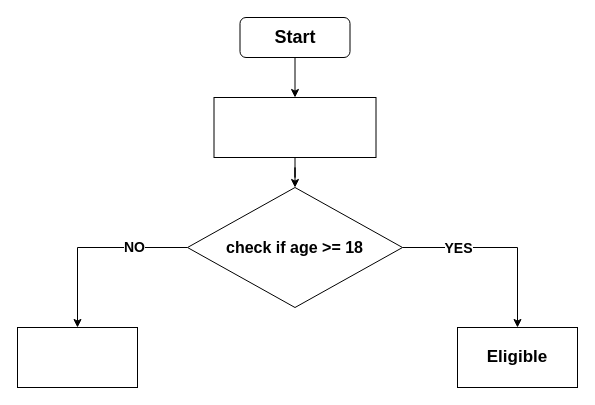
The diagram is 595 pixels wide and 405 high, and some of its shapes have lost their labels. Here are the shapes that lost their labels. From the top down, the box of each, then its label:
(213, 96, 376, 158): accept age input from user
(16, 326, 138, 388): Not Eligible
